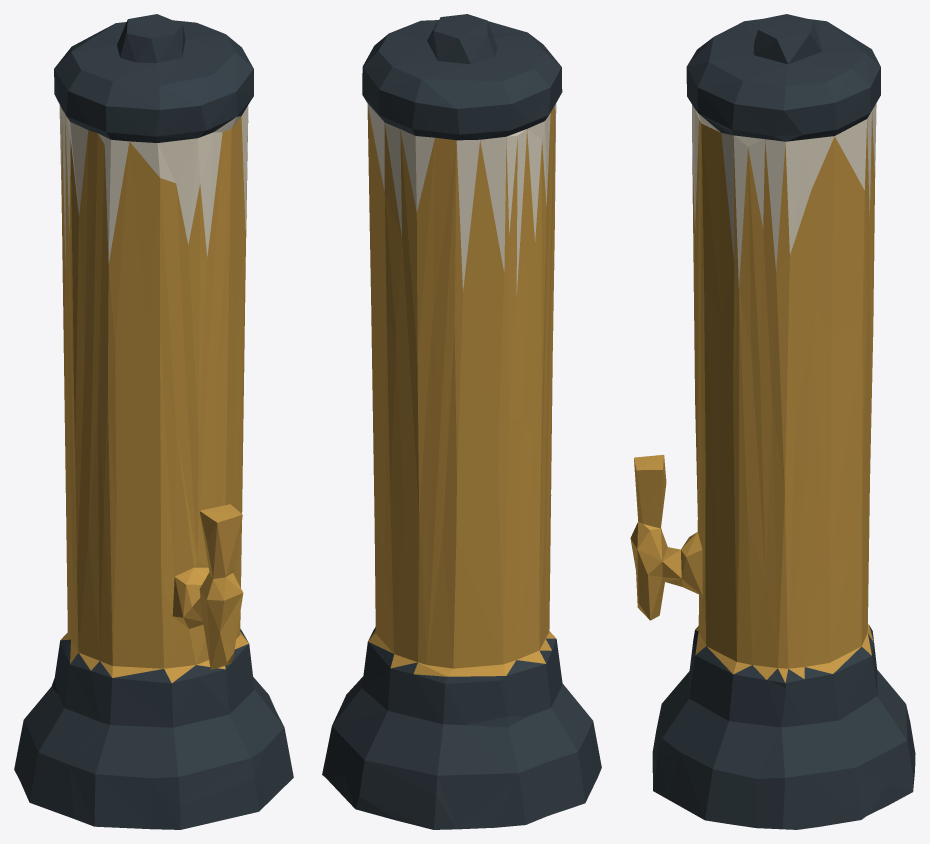
Rendered from beer_tower.glb.
3 renders of one model, left to right at view 1: azimuth 30°, elevation 25°; view 2: azimuth 150°, elevation 25°; view 3: azimuth 270°, elevation 25°, orthographic.
Visible parts, largest first — view 1: beer_tower; view 2: beer_tower; view 3: beer_tower.
Part boxes in pixels (x1,y1,x2,y2): beer_tower: (14, 14, 293, 829); beer_tower: (322, 14, 601, 829); beer_tower: (630, 14, 915, 829).
Size of the model in its own units: 0.18 by 0.52 by 0.18.
